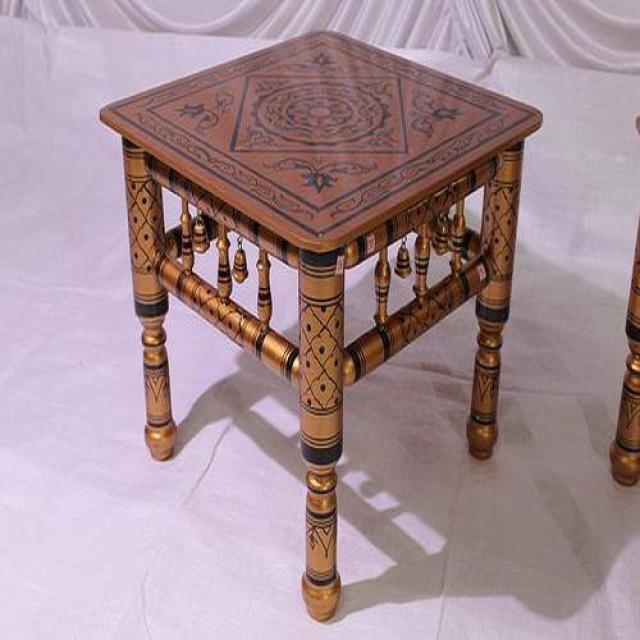table: (97, 31, 544, 626)
